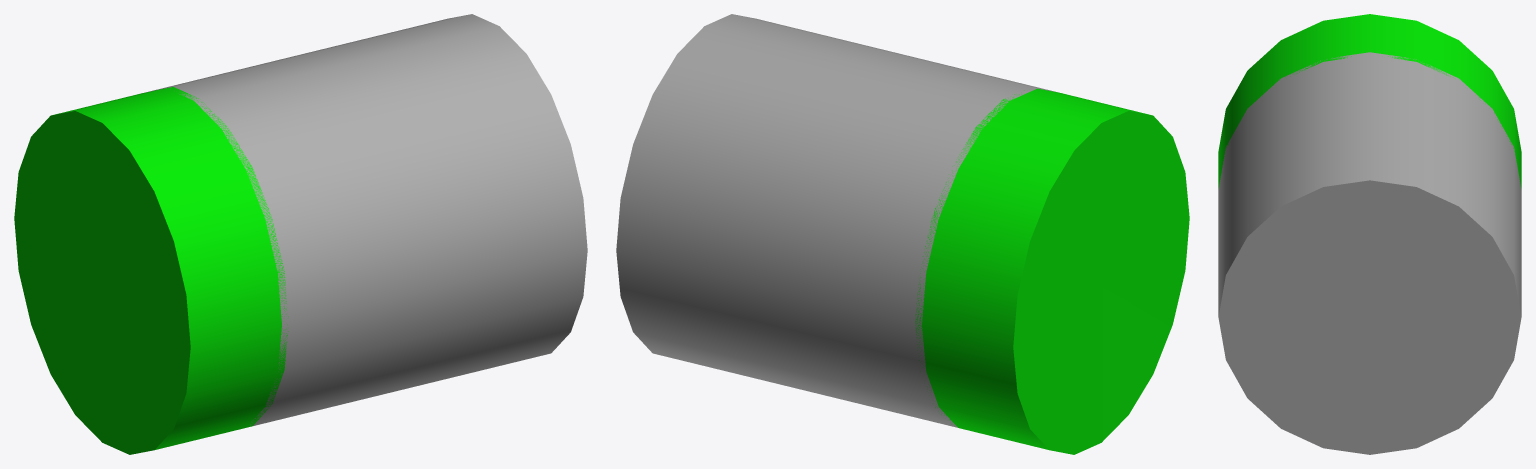
The model's file is Misaill.fbx.
3 views of the same model, side by side, from view 1: azimuth 30°, elevation 25°; view 2: azimuth 150°, elevation 25°; view 3: azimuth 270°, elevation 25° (orthographic). The views are drawn at different scales.
Parts seen in each view (by area): view 1: misaill3; view 2: misaill3; view 3: misaill3.
Part boxes in pixels (box(x1,y1,x2,y2)): misaill3: box(14, 14, 587, 454); misaill3: box(616, 14, 1189, 454); misaill3: box(1218, 14, 1521, 454).
Size of the model in its own units: 3.22 by 2.48 by 2.48.
